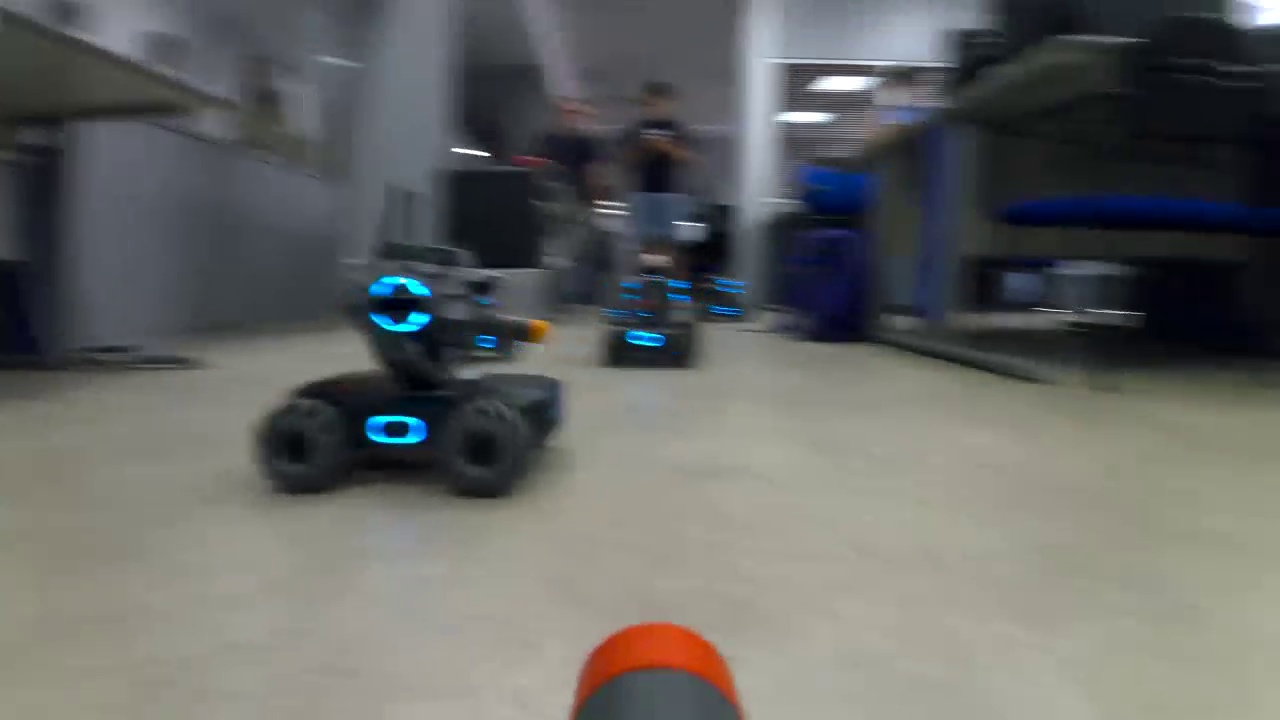robot: (248, 236, 568, 507), (600, 247, 701, 371), (695, 268, 755, 325)
